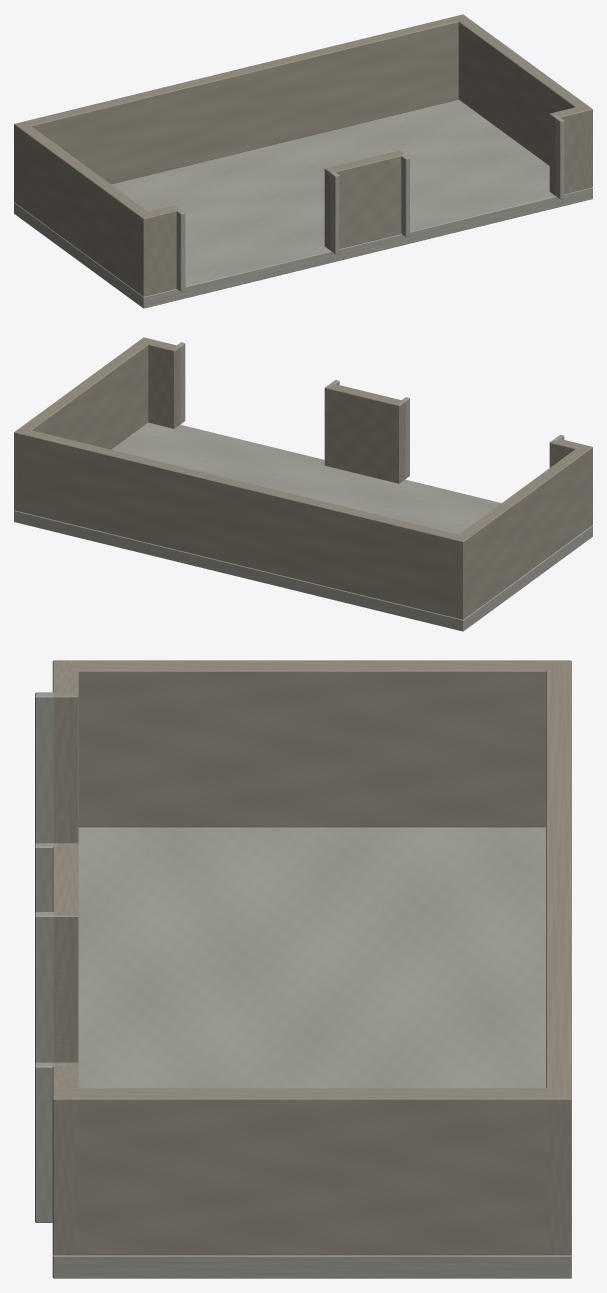
File: I08_ReturnLanding_visual.glb
The picture shows the model from 3 angles, top to bottom: view 1: azimuth 30°, elevation 25°; view 2: azimuth 150°, elevation 25°; view 3: azimuth 270°, elevation 25°; orthographic projection. The views are drawn at different scales.
Visible parts, largest first — view 1: I08_ReturnLanding__VIS_shell; view 2: I08_ReturnLanding__VIS_shell; view 3: I08_ReturnLanding__VIS_shell.
Part boxes in pixels (x1,y1,x2,y2): I08_ReturnLanding__VIS_shell: (14,14,592,308); I08_ReturnLanding__VIS_shell: (14,337,592,631); I08_ReturnLanding__VIS_shell: (35,660,571,1278).
Size of the model in its own units: 24 by 4.6 by 12.41.
1 material, 1 textured.
